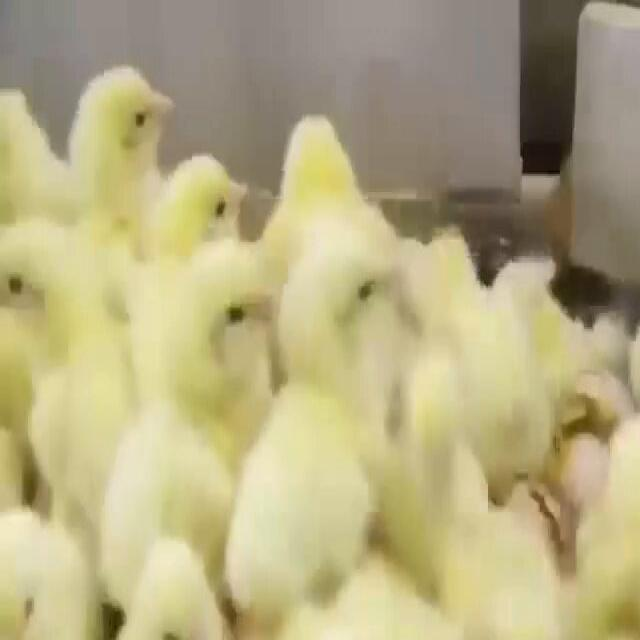chicks: (230, 412, 350, 606), (285, 224, 406, 354), (112, 406, 214, 560), (160, 255, 285, 378), (467, 334, 565, 464), (0, 214, 78, 348), (140, 166, 262, 250), (76, 64, 174, 162), (0, 531, 77, 640), (122, 565, 225, 640), (462, 569, 560, 640), (0, 93, 58, 199), (286, 117, 351, 200)
